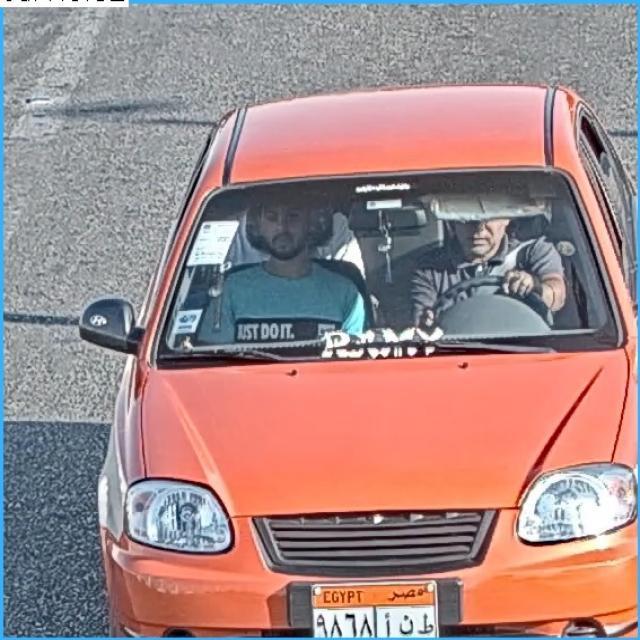windshield: (162, 187, 620, 370)
